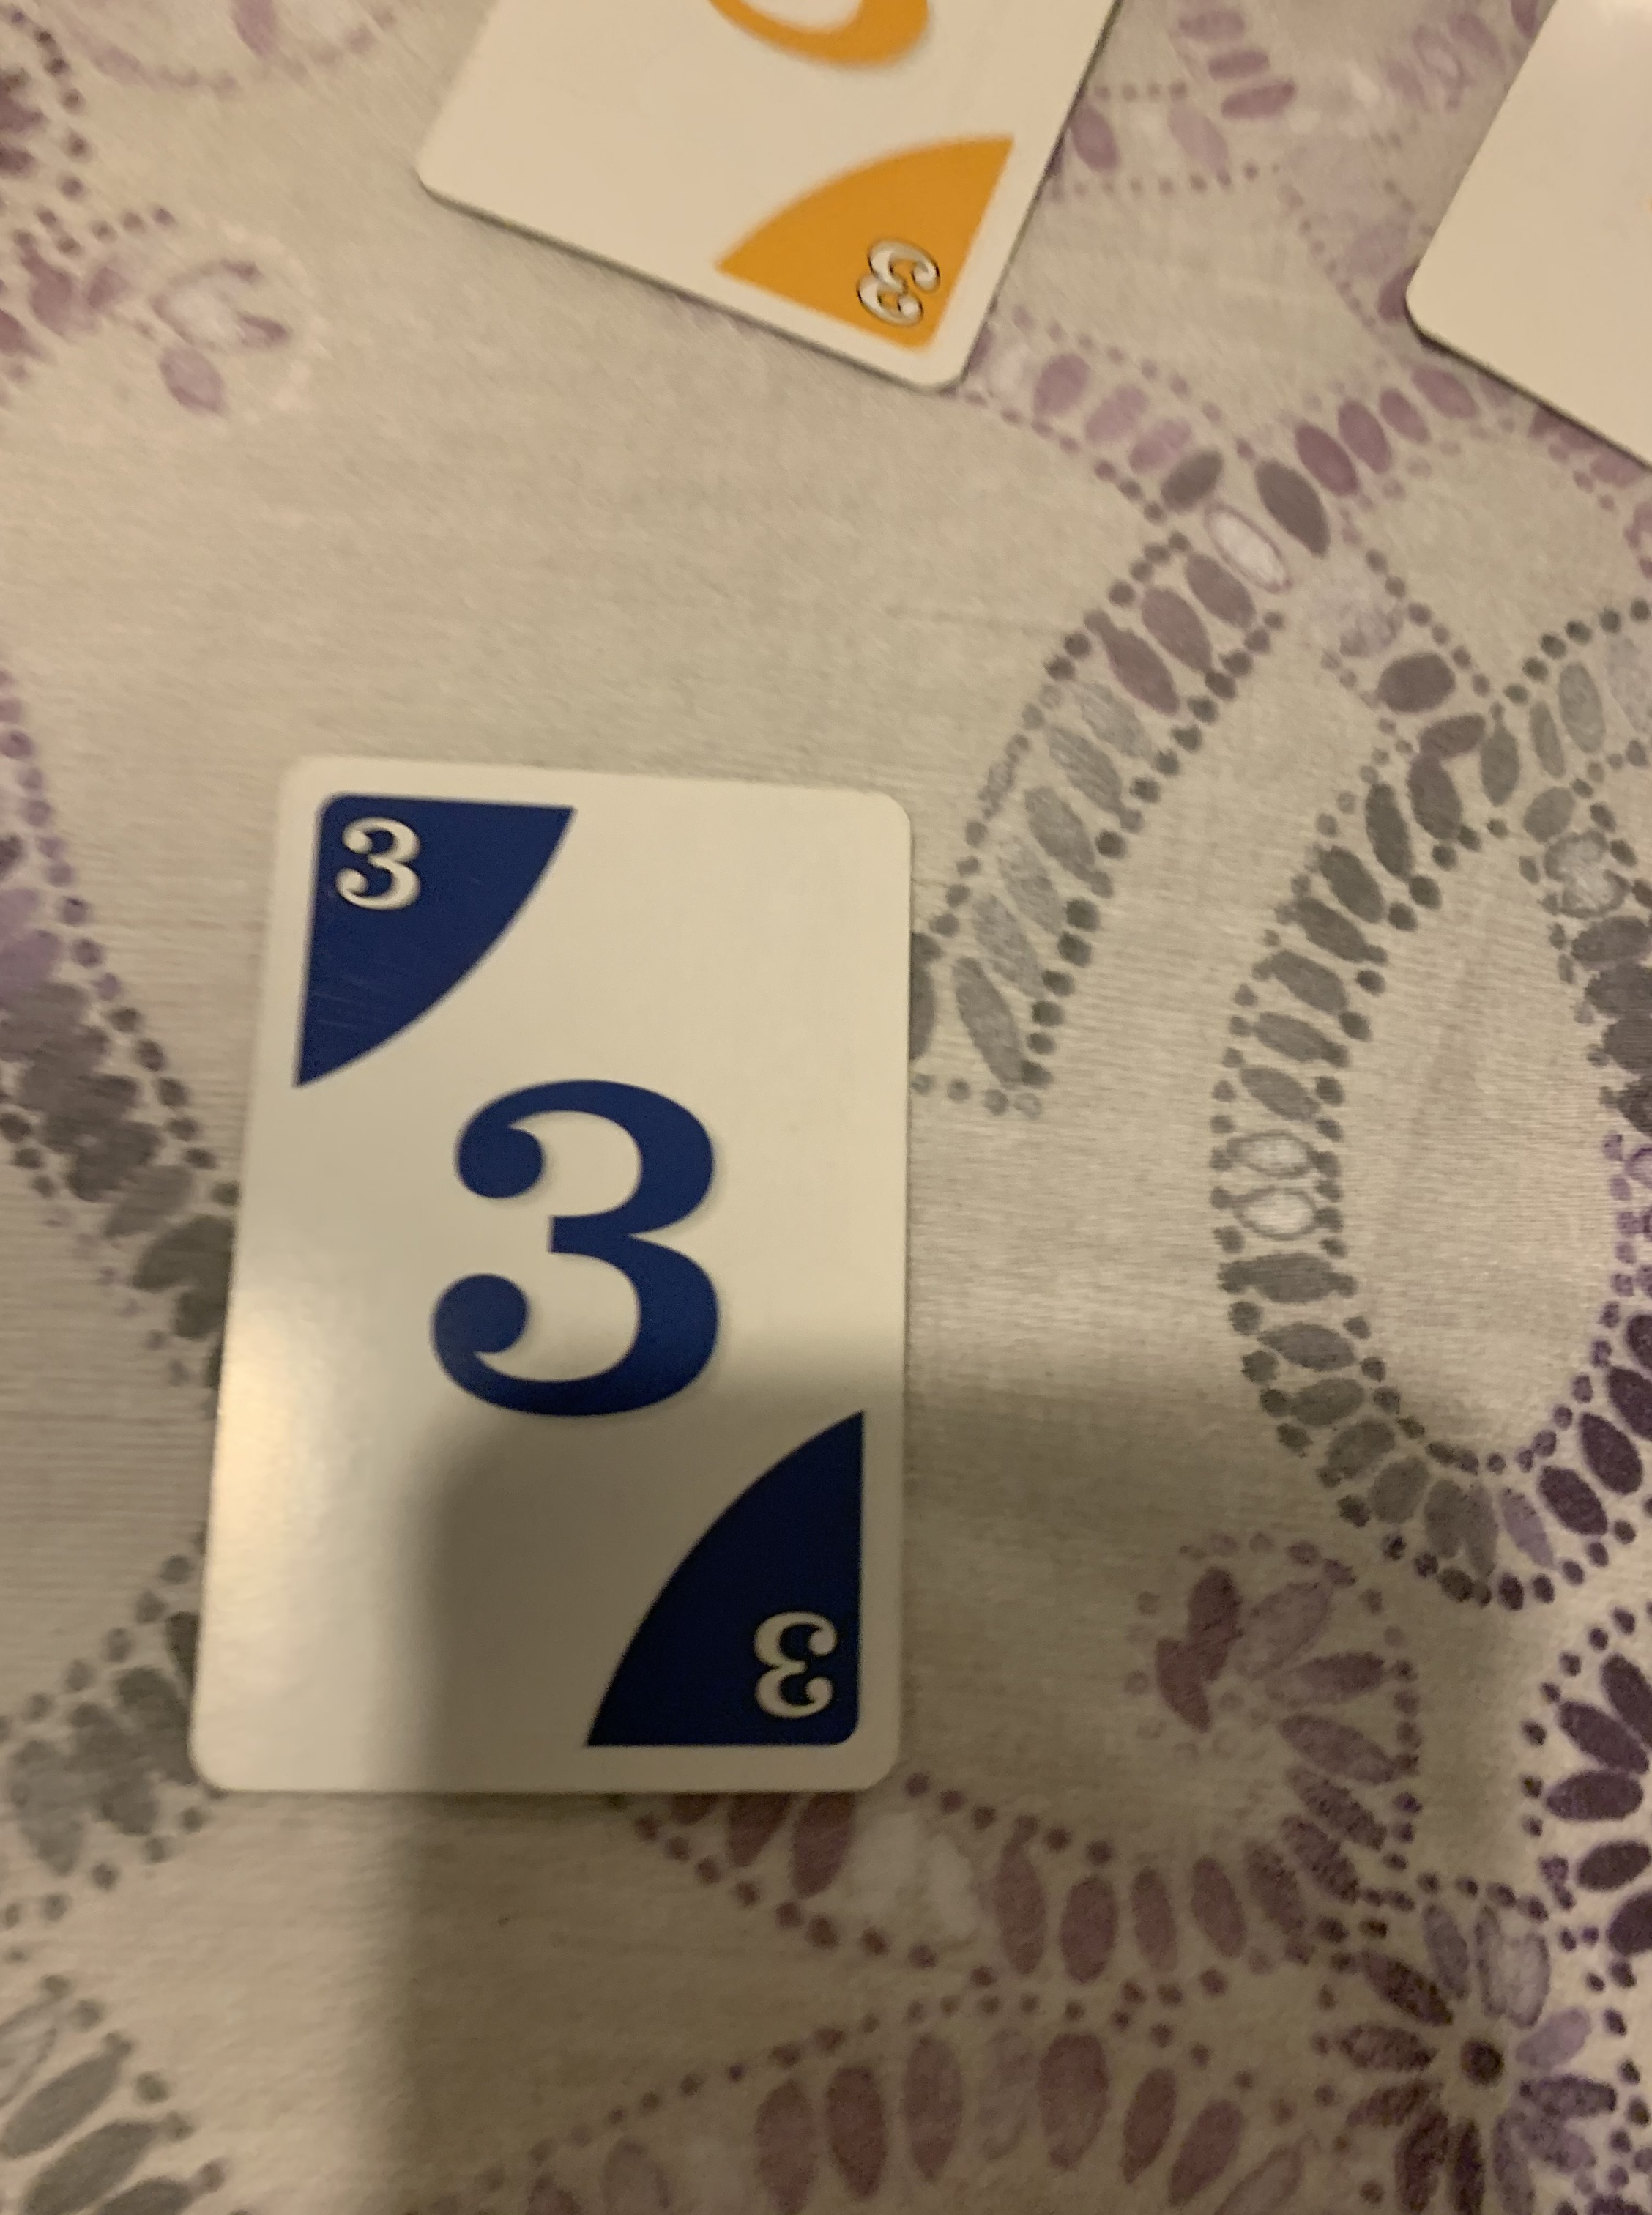three: (180, 750, 915, 1800)
